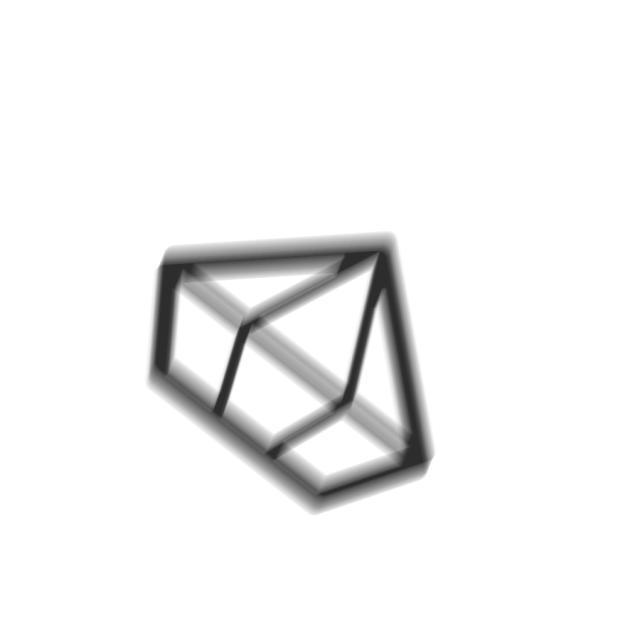diamond: (141, 229, 443, 526)
